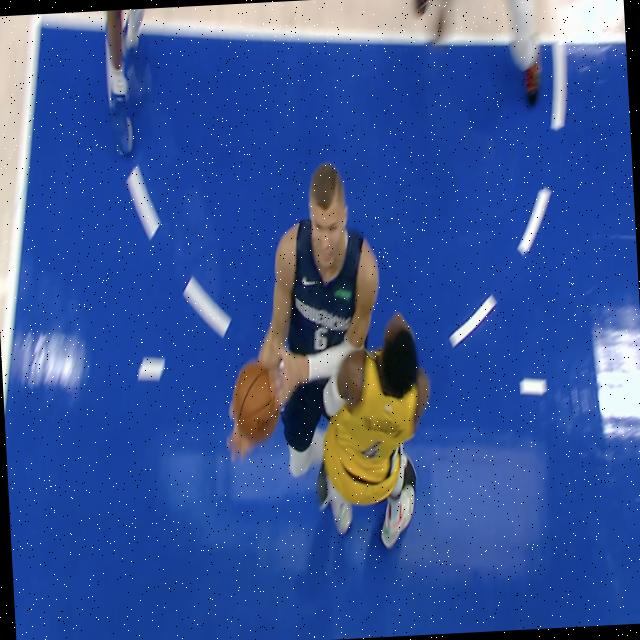Foul: (215, 149, 434, 564)
